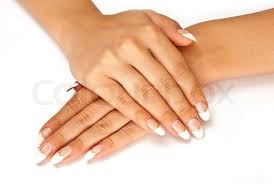hand: (15, 3, 246, 174)
